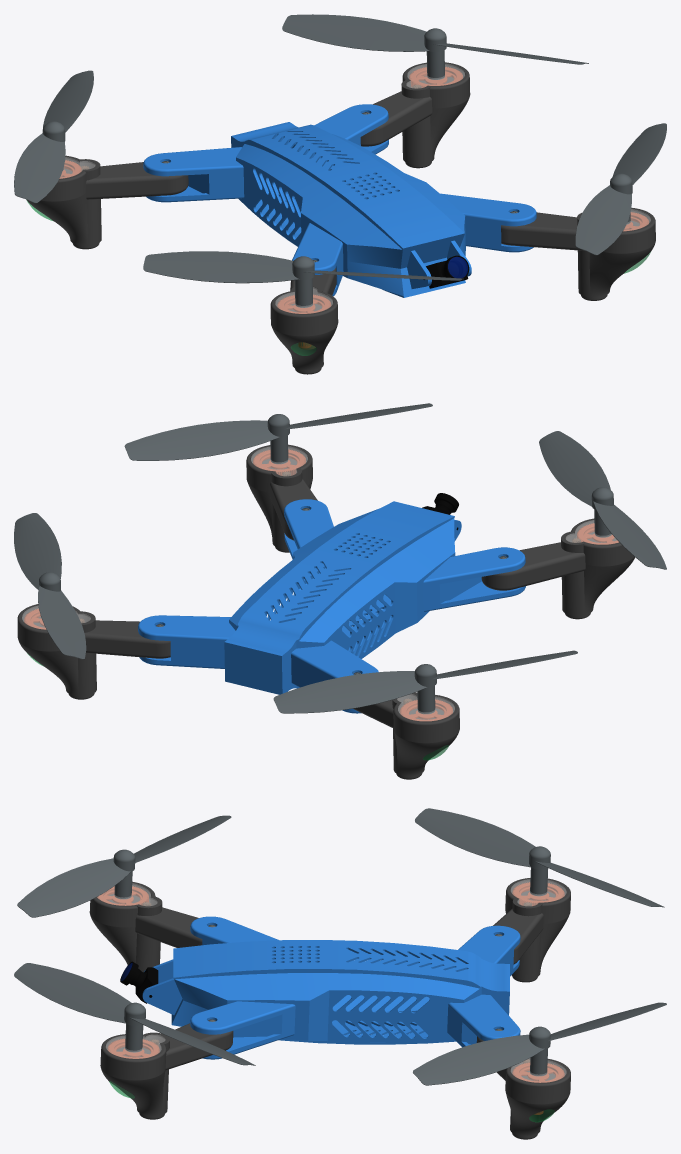
The model's file is custom.gltf.
3 views of the same model, one above another, from view 1: azimuth 30°, elevation 25°; view 2: azimuth 150°, elevation 25°; view 3: azimuth 270°, elevation 25° (orthographic). The views are drawn at different scales.
Visible parts, largest first — view 1: Solid1 (×13); view 2: Solid1 (×12); view 3: Solid1 (×15).
Part boxes in pixels (x1=…): Solid1 (×13): x1=14, y1=14, x2=666, y2=374; Solid1 (×12): x1=14, y1=403, x2=666, y2=779; Solid1 (×15): x1=14, y1=808, x2=666, y2=1139.
Size of the model in its own units: 0.2937 by 0.0672 by 0.3003.
